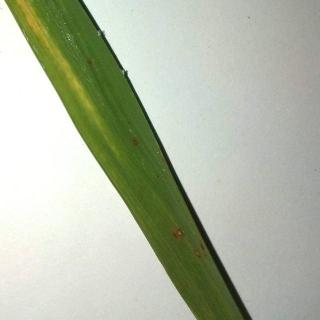Blast: (157, 214, 220, 272), (129, 133, 146, 153)
